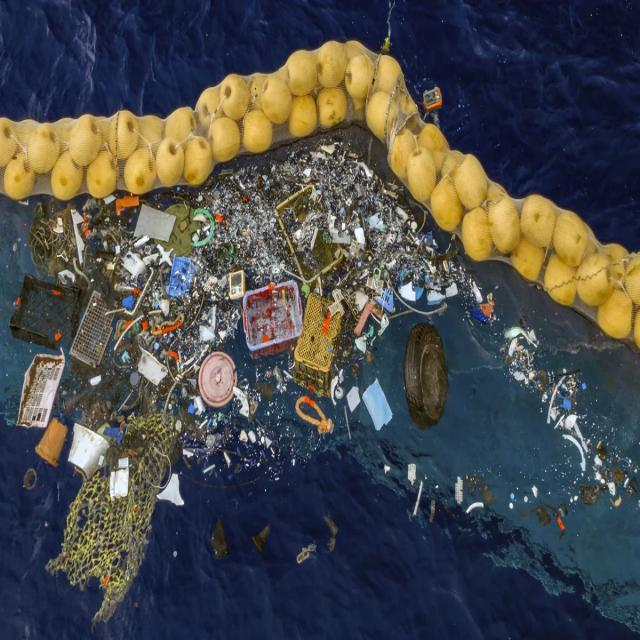plastic watse: (30, 183, 459, 498)
